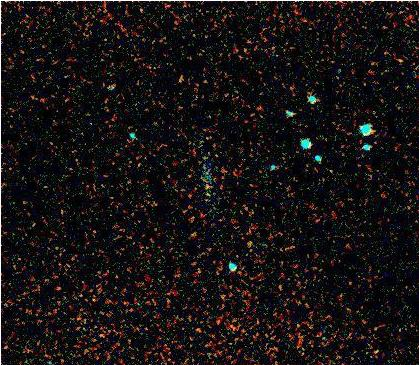star: (233, 229, 263, 259)
